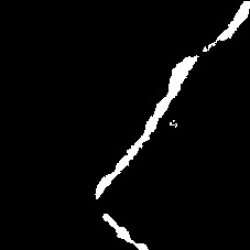crack: (95, 56, 198, 199), (203, 3, 248, 49), (103, 214, 148, 248)
